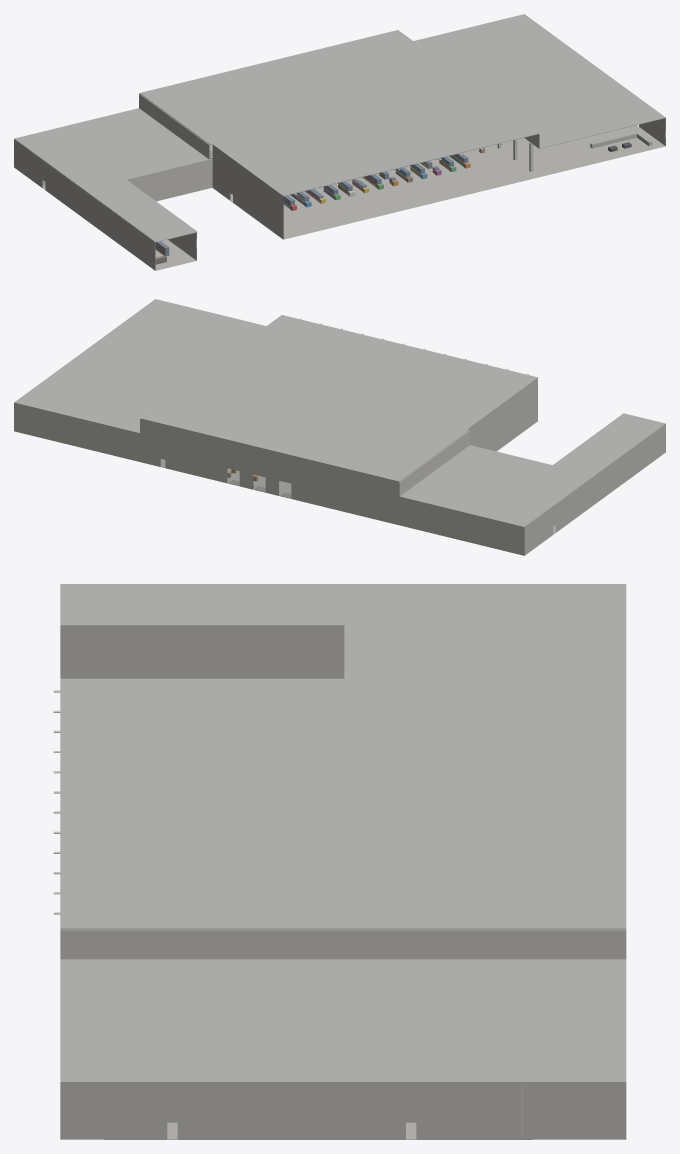
The model's file is superstore-interior.windows-v1.lod0.glb.
3 renders of one model, top to bottom at view 1: azimuth 30°, elevation 25°; view 2: azimuth 150°, elevation 25°; view 3: azimuth 270°, elevation 25°, orthographic. The views are drawn at different scales.
Parts seen in each view (by area): view 1: superstore-interior; view 2: superstore-interior; view 3: superstore-interior.
Part boxes in pixels (x1,y1,x2,y2): superstore-interior: (14, 14, 665, 270); superstore-interior: (14, 299, 665, 555); superstore-interior: (53, 584, 626, 1139).
Bounding box in the file's own units: 148 × 12.2 × 72.
